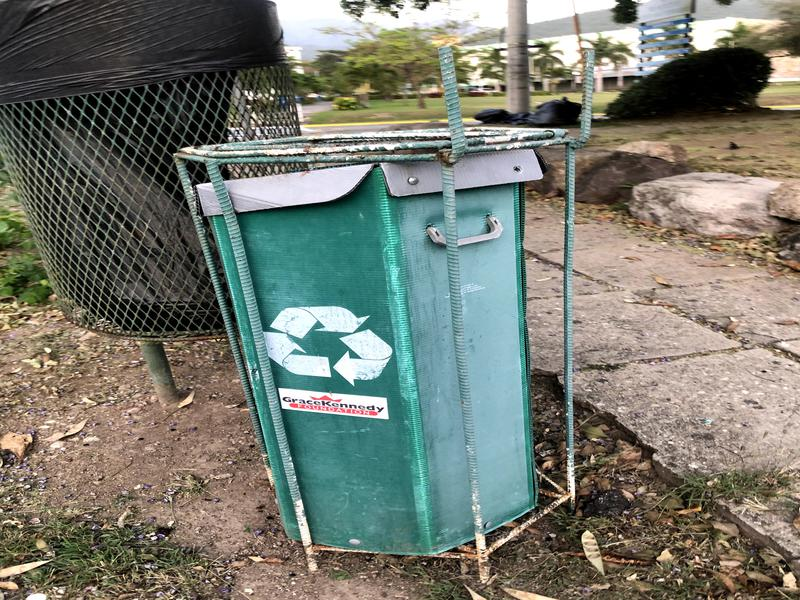18.0053245_-76.7486424_recyclebin: (166, 128, 615, 563)
